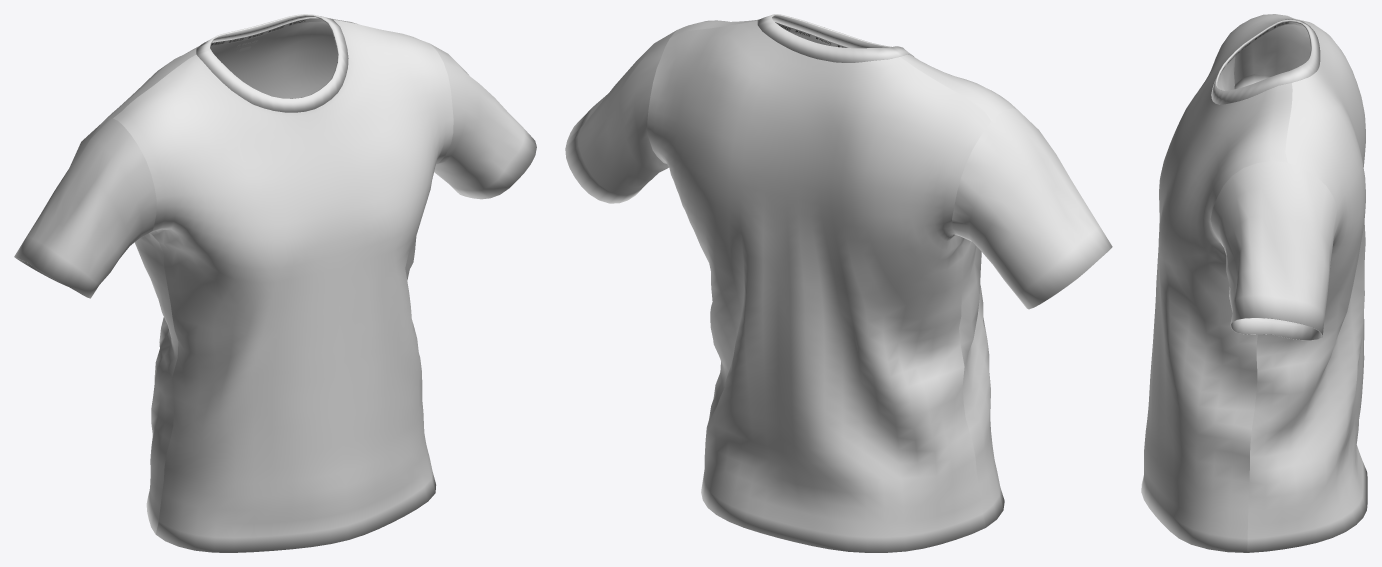
The model's file is crewneck.gltf.
3 views of the same model, side by side, from view 1: azimuth 30°, elevation 25°; view 2: azimuth 150°, elevation 25°; view 3: azimuth 270°, elevation 25° (orthographic). The views are drawn at different scales.
Parts seen in each view (by area): view 1: crewneck_front, crewneck_sleeve_right, crewneck_sleeve_left, crewneck_inside, crewneck_back, crewneck_collar; view 2: crewneck_back, crewneck_sleeve_right, crewneck_sleeve_left, crewneck_front, crewneck_collar; view 3: crewneck_front, crewneck_back, crewneck_sleeve_left, crewneck_inside, crewneck_collar.
Boxes of the visible parts, <box> form: crewneck_front: <box>113,20,453,552</box>; crewneck_sleeve_right: <box>14,118,156,298</box>; crewneck_sleeve_left: <box>430,44,536,199</box>; crewneck_inside: <box>210,18,337,98</box>; crewneck_back: <box>105,17,357,533</box>; crewneck_collar: <box>196,14,348,112</box>; crewneck_back: <box>647,20,991,552</box>; crewneck_sleeve_right: <box>952,108,1112,309</box>; crewneck_sleeve_left: <box>565,30,676,203</box>; crewneck_front: <box>670,19,1017,527</box>; crewneck_collar: <box>757,14,913,62</box>; crewneck_front: <box>1141,14,1292,552</box>; crewneck_back: <box>1247,16,1367,552</box>; crewneck_sleeve_left: <box>1210,161,1339,340</box>; crewneck_inside: <box>1217,21,1310,325</box>; crewneck_collar: <box>1211,19,1320,104</box>.
Size of the model in its own units: 0.6751 by 0.5906 by 0.27.
Materials: 4 (2 with a texture image).
